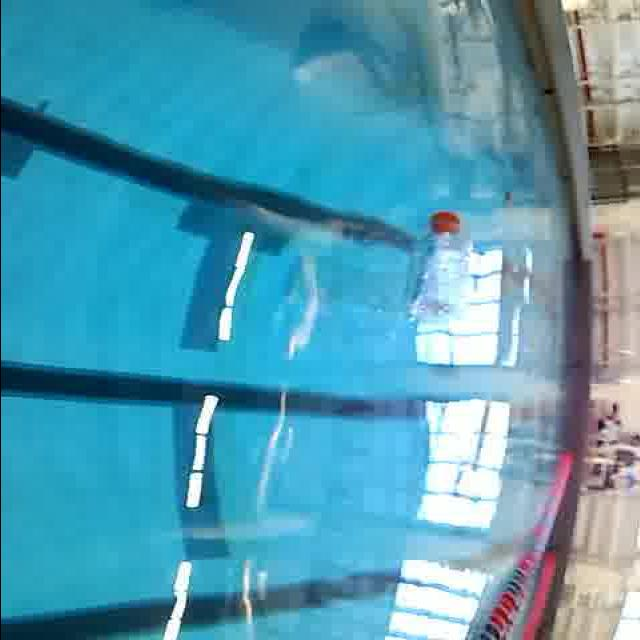Bottle: (402, 205, 476, 328)
